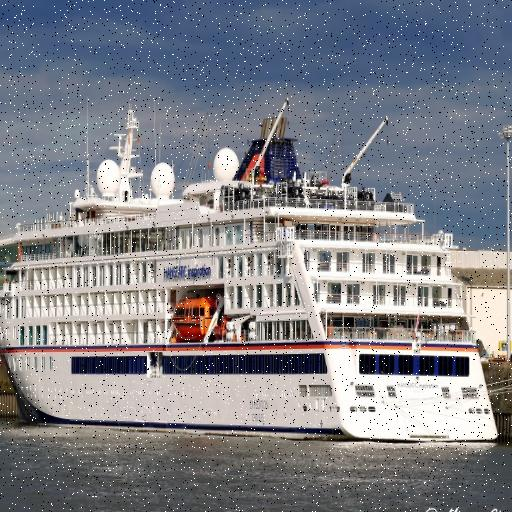cruises: (1, 96, 503, 454)
